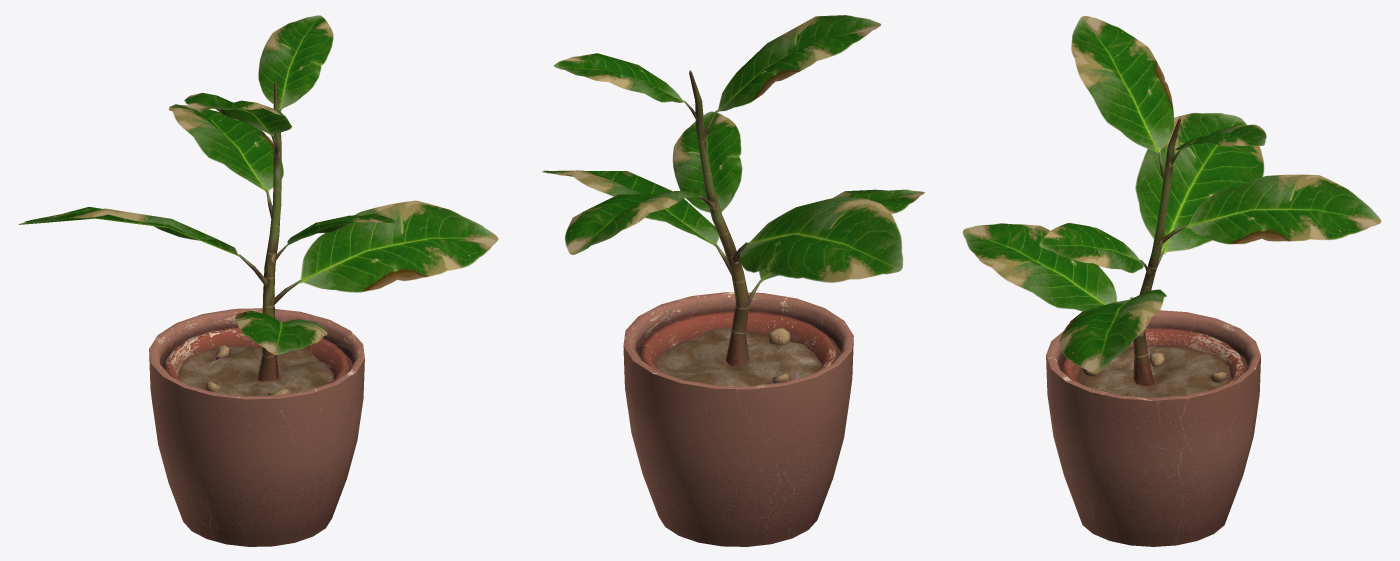
3 renders of one model, left to right at view 1: azimuth 30°, elevation 25°; view 2: azimuth 150°, elevation 25°; view 3: azimuth 270°, elevation 25°, orthographic. The views are drawn at different scales.
Parts seen in each view (by area): view 1: Ficus; view 2: Ficus; view 3: Ficus.
Boxes of the visible parts, bbox=[...] form: Ficus: bbox=[19, 15, 498, 546]; Ficus: bbox=[542, 15, 924, 546]; Ficus: bbox=[962, 16, 1381, 546].
Size of the model in its own units: 2139 by 2248 by 1930.
Materials: 1 (1 with a texture image).
